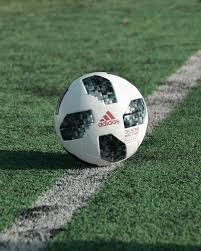football ball: (54, 71, 150, 167)
